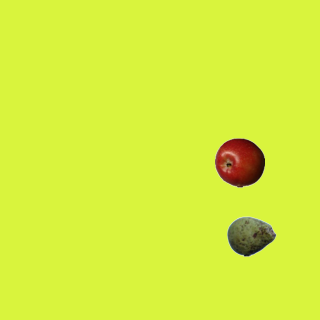Apple Braeburn: (214, 137, 264, 187)
Pear Stone: (226, 211, 276, 261)
